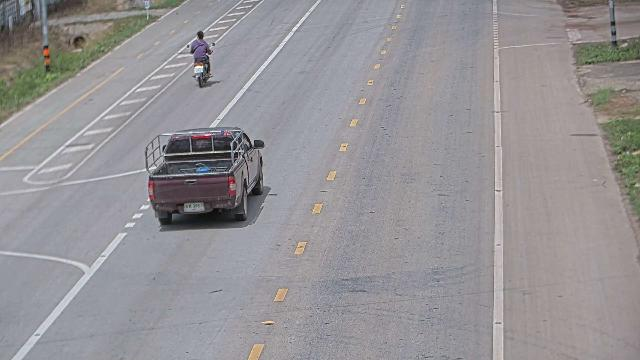motorcycle: (189, 44, 216, 87)
pickup-truck: (144, 126, 265, 225)
